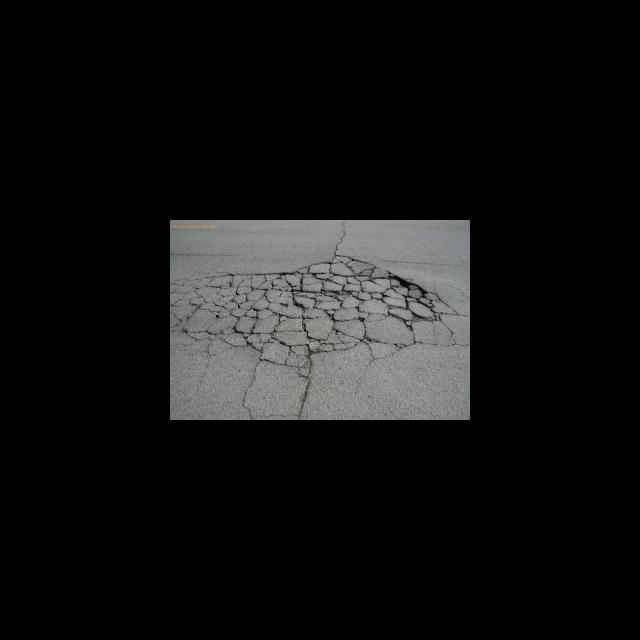retak_kulit_buaya: (180, 257, 432, 366)
